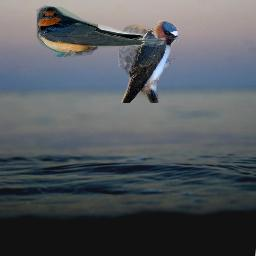Swallow: (34, 4, 166, 57), (118, 20, 178, 103)
